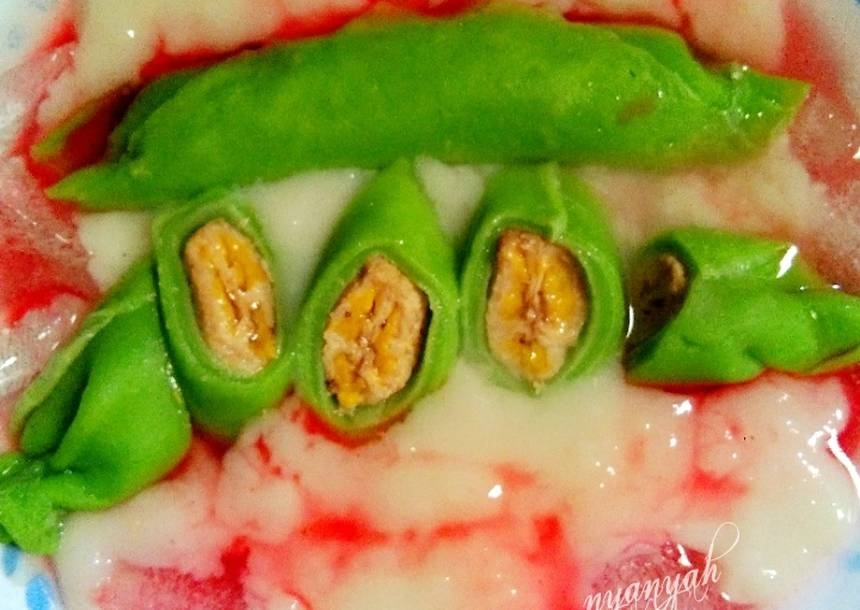pisang_ijo: (303, 169, 464, 443)
